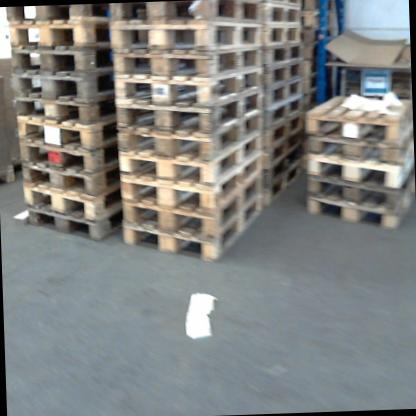pallet: (120, 170, 260, 246), (121, 199, 262, 266), (120, 152, 262, 217), (121, 133, 265, 194), (115, 111, 261, 167), (116, 89, 263, 138), (297, 88, 413, 149), (112, 68, 262, 115), (112, 47, 263, 92), (292, 166, 416, 216), (110, 19, 263, 57), (299, 120, 414, 168), (306, 184, 415, 232), (20, 175, 122, 224), (304, 146, 415, 191), (10, 63, 115, 107), (17, 134, 117, 179), (21, 205, 121, 247), (109, 0, 264, 27), (15, 115, 118, 155), (8, 39, 113, 77), (15, 94, 117, 133), (23, 160, 118, 201), (6, 20, 107, 54), (261, 165, 305, 208), (7, 6, 104, 24), (259, 146, 302, 185), (261, 96, 305, 133), (261, 131, 302, 168), (262, 56, 304, 91), (262, 113, 302, 149), (261, 78, 303, 111), (258, 42, 303, 68), (258, 23, 300, 46), (262, 3, 301, 27), (297, 13, 331, 30), (299, 28, 334, 44), (302, 0, 335, 14), (1, 160, 14, 191), (263, 0, 303, 9), (303, 60, 319, 81), (300, 44, 315, 60), (303, 81, 315, 93)
